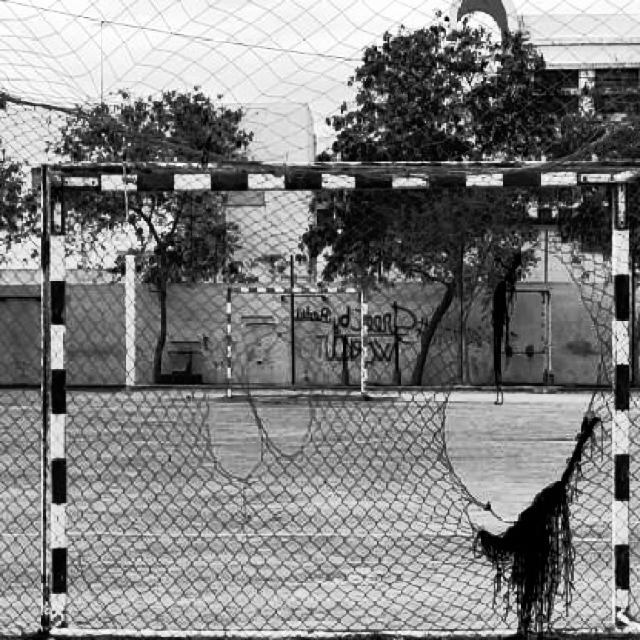anomaly-fence: (396, 205, 636, 636), (156, 292, 314, 497)
